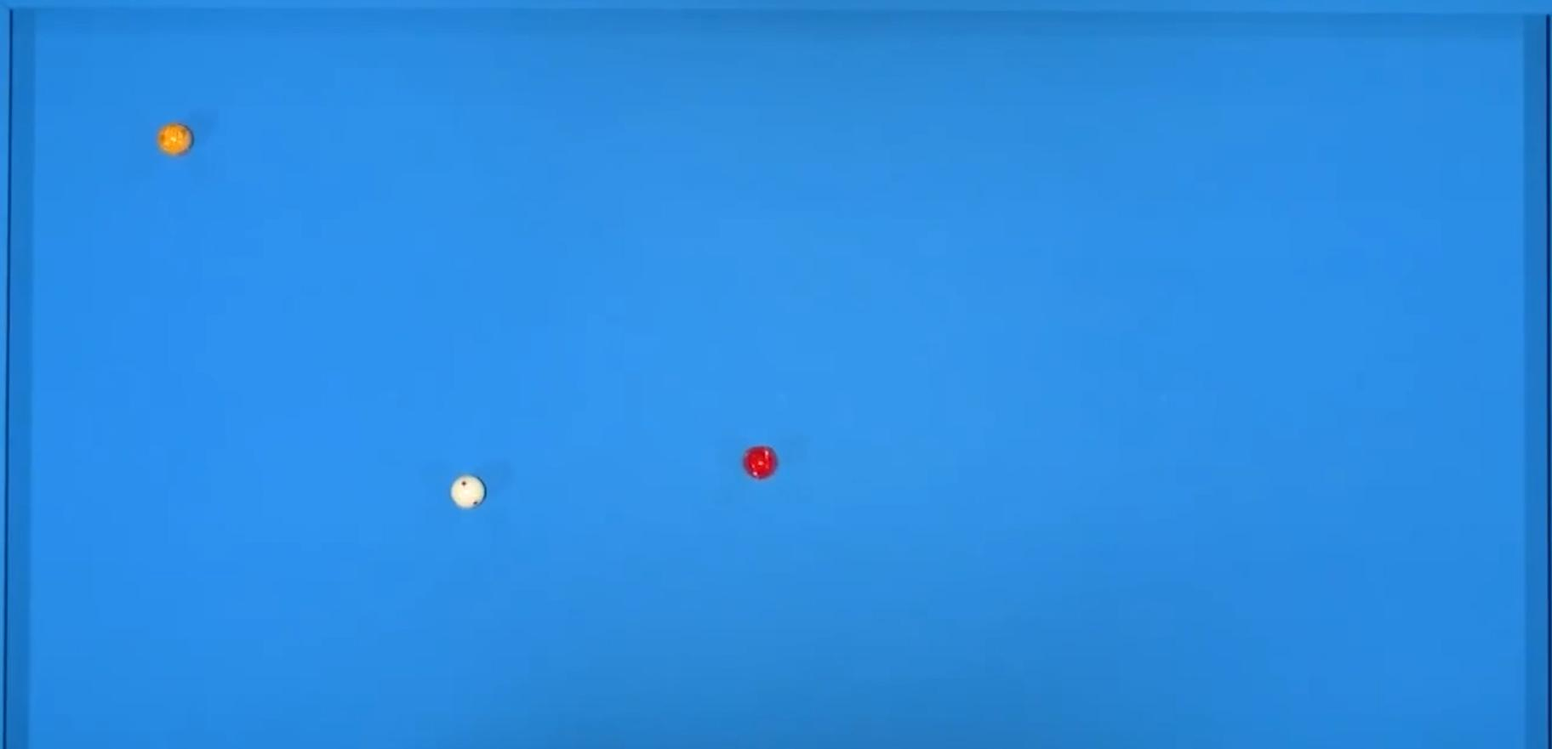red ball: (741, 441, 782, 483)
white ball: (446, 471, 490, 514)
yellow ball: (157, 117, 197, 163)
